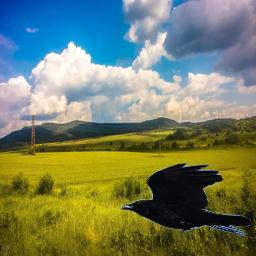Crow: (120, 163, 252, 237)
